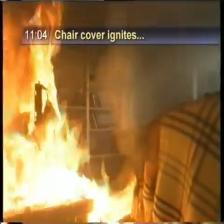fire: (15, 2, 66, 211), (65, 142, 133, 217)
smoke: (112, 57, 202, 107)
